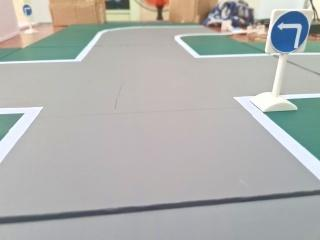left: (262, 6, 317, 59)
